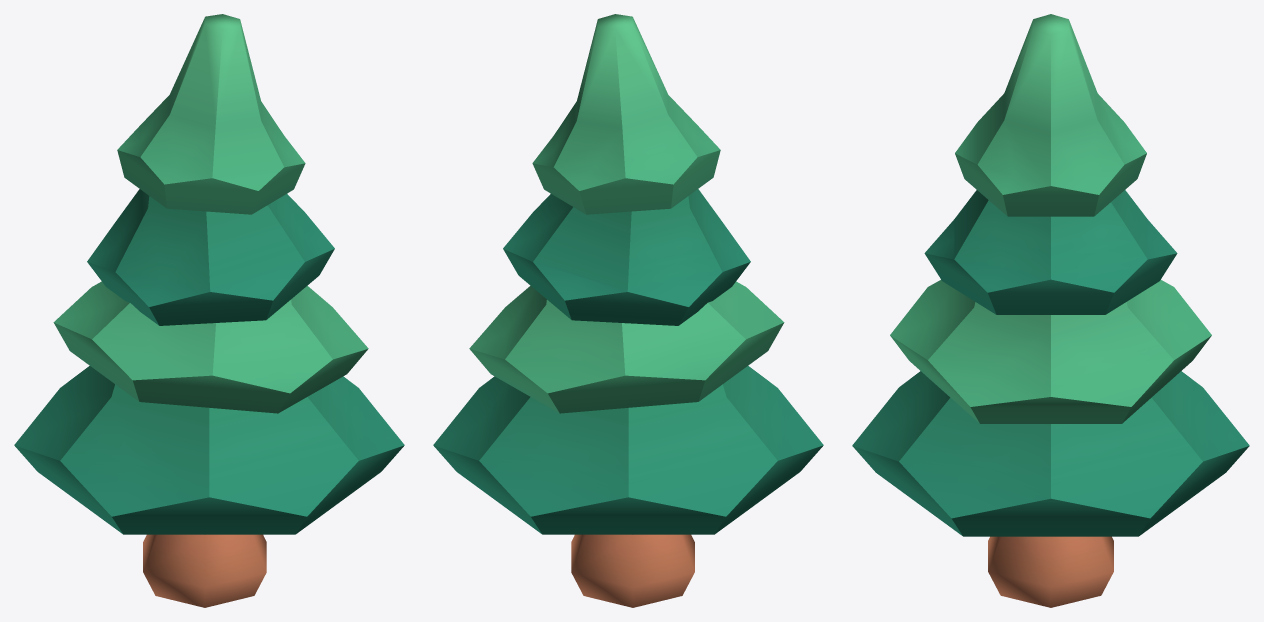
Rendered from kenney-graveyard-pine-crooked.glb.
3 views of the same model, side by side, from view 1: azimuth 30°, elevation 25°; view 2: azimuth 150°, elevation 25°; view 3: azimuth 270°, elevation 25° (orthographic).
Parts seen in each view (by area): view 1: pine-crooked; view 2: pine-crooked; view 3: pine-crooked.
Boxes of the visible parts, x1,y1,x2,y2 form: pine-crooked: (14, 14, 404, 607); pine-crooked: (433, 14, 823, 607); pine-crooked: (852, 14, 1249, 607).
Size of the model in its own units: 1.18 by 2.11 by 1.33.
Materials: 1 (1 with a texture image).
